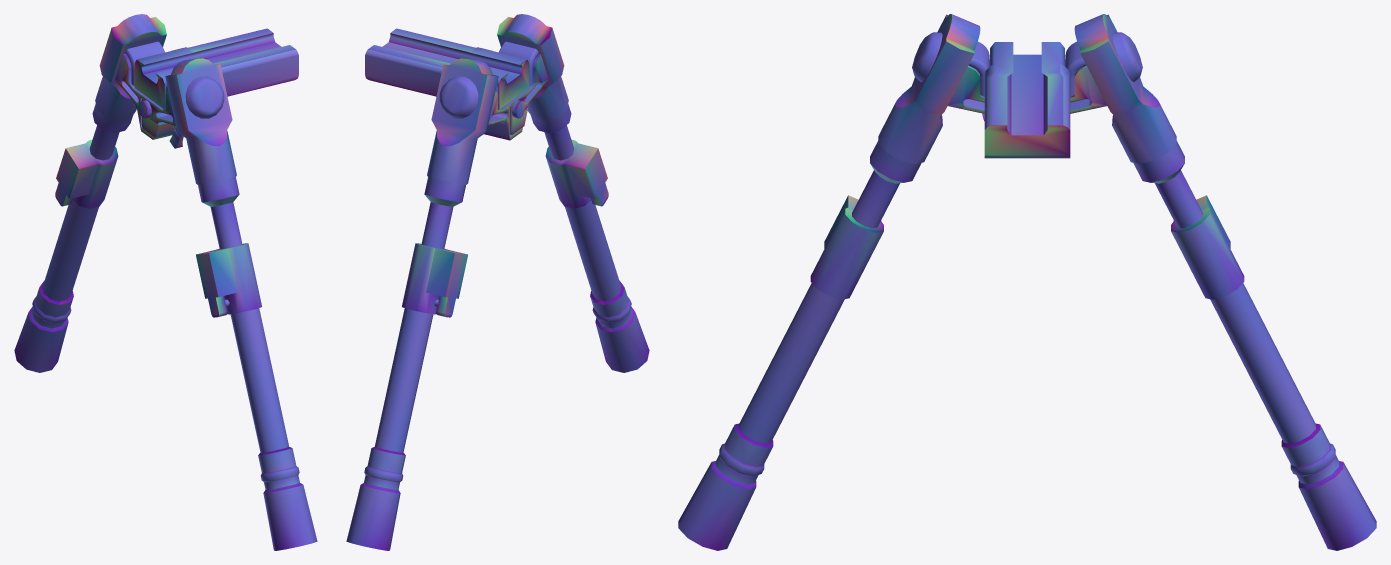
File: cw_CheyanneSSR01_Stool_WL.fbx
The picture shows the model from 3 angles, left to right: view 1: azimuth 30°, elevation 25°; view 2: azimuth 150°, elevation 25°; view 3: azimuth 270°, elevation 25°; orthographic projection. The views are drawn at different scales.
Parts seen in each view (by area): view 1: cw_CheyanneSSR01_Stool_WL_lod0; view 2: cw_CheyanneSSR01_Stool_WL_lod0; view 3: cw_CheyanneSSR01_Stool_WL_lod0.
Boxes of the visible parts, x1,y1,x2,y2 form: cw_CheyanneSSR01_Stool_WL_lod0: [14, 14, 317, 550]; cw_CheyanneSSR01_Stool_WL_lod0: [346, 14, 649, 550]; cw_CheyanneSSR01_Stool_WL_lod0: [678, 14, 1376, 550].
Size of what is drawn, in the model's own units: 0.0683 by 0.1905 by 0.2281.
